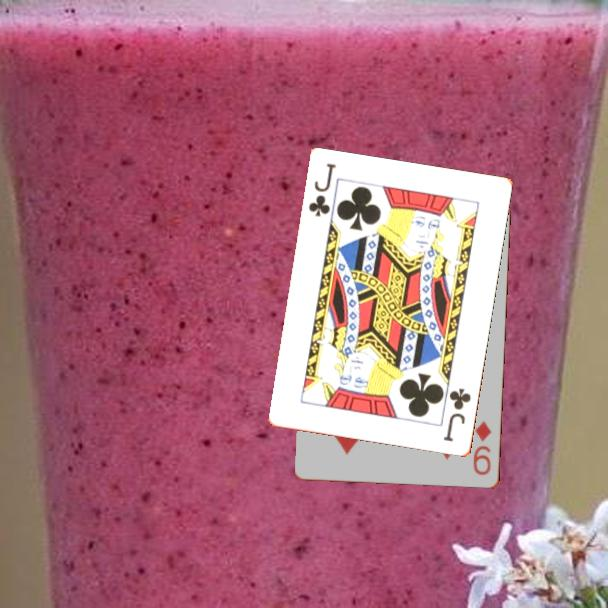c11: (440, 385, 474, 445), (305, 160, 339, 220)
d09: (470, 418, 494, 478)
